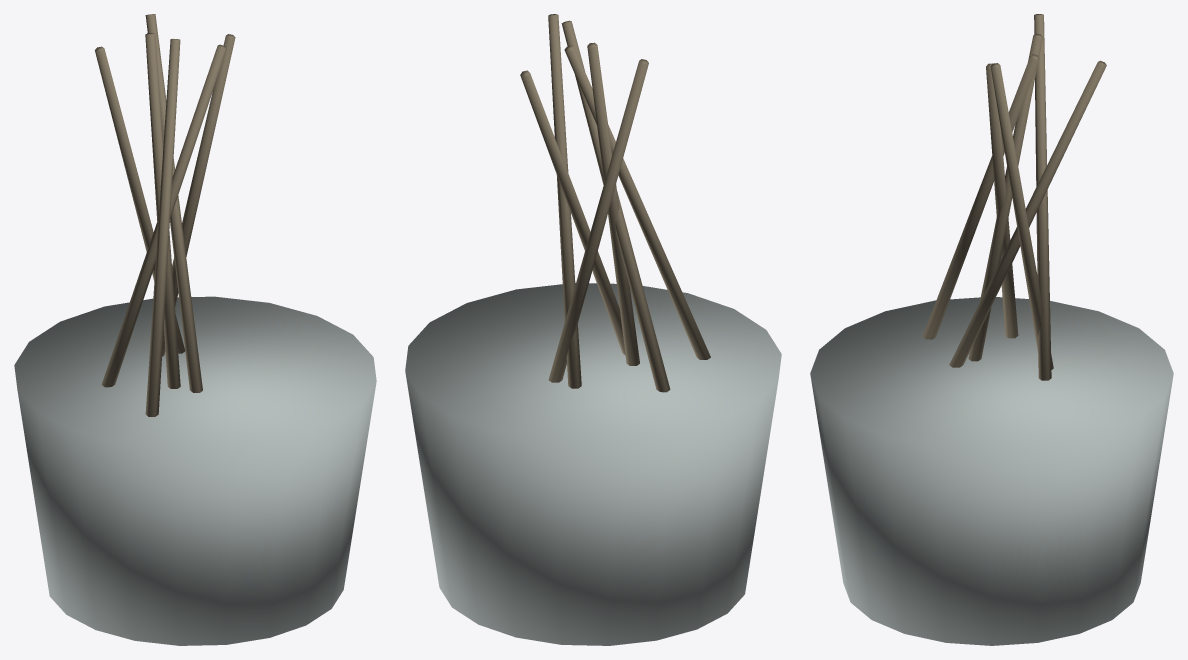
The model's file is planter.glb.
3 renders of one model, left to right at view 1: azimuth 30°, elevation 25°; view 2: azimuth 150°, elevation 25°; view 3: azimuth 270°, elevation 25°, orthographic. The views are drawn at different scales.
Parts seen in each view (by area): view 1: cyl, dead_plant; view 2: cyl, dead_plant; view 3: cyl, dead_plant.
Part boxes in pixels (x1,y1,x2,y2): cyl: (14,296,376,645); dead_plant: (95,14,235,416); cyl: (405,283,781,645); dead_plant: (520,14,710,392); cyl: (810,297,1173,645); dead_plant: (922,14,1106,380).
Size of the model in its own units: 1.1 by 1.79 by 1.1.
